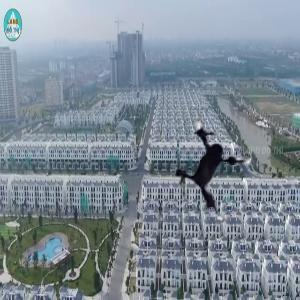drone: (158, 108, 280, 230)
